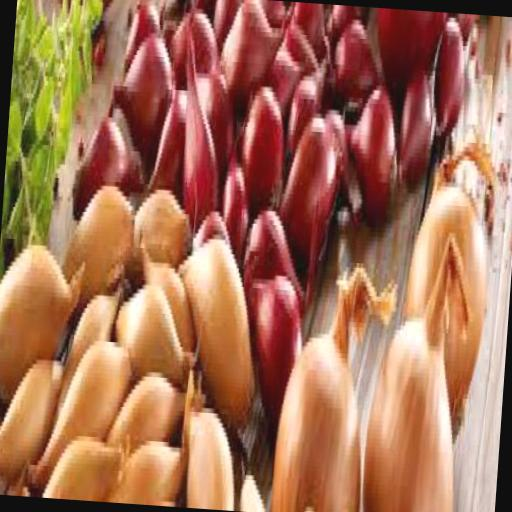biodegradable: (270, 249, 399, 512), (358, 228, 476, 512), (398, 134, 500, 419), (0, 0, 104, 245), (19, 327, 136, 499), (232, 186, 323, 406), (166, 237, 267, 435), (0, 238, 90, 404), (272, 98, 345, 262), (174, 8, 227, 231), (108, 278, 204, 398), (129, 216, 202, 352), (102, 22, 174, 158), (54, 269, 127, 398), (176, 365, 242, 507), (102, 351, 193, 453), (338, 74, 404, 211), (0, 343, 67, 472), (70, 115, 146, 216), (34, 424, 134, 499), (128, 166, 194, 278), (230, 76, 286, 202), (216, 0, 284, 97), (111, 430, 195, 504), (284, 38, 330, 168), (214, 111, 252, 264), (370, 8, 440, 90), (324, 14, 382, 110), (394, 65, 436, 195), (430, 12, 468, 142), (266, 18, 320, 109), (192, 64, 240, 159), (148, 75, 185, 191), (166, 12, 220, 84), (120, 0, 158, 79), (320, 110, 358, 184), (322, 4, 367, 49), (290, 2, 328, 54), (188, 201, 224, 254), (155, 0, 186, 49), (55, 63, 72, 151), (209, 0, 239, 48), (6, 78, 24, 156), (238, 466, 268, 510), (262, 0, 292, 44), (65, 41, 84, 102), (51, 0, 117, 17), (26, 139, 48, 182), (36, 25, 58, 68), (36, 181, 54, 232), (67, 0, 88, 42), (16, 6, 31, 61), (8, 188, 28, 222), (34, 81, 52, 118), (91, 20, 106, 53), (82, 32, 92, 70), (16, 0, 29, 16), (87, 0, 98, 6)
